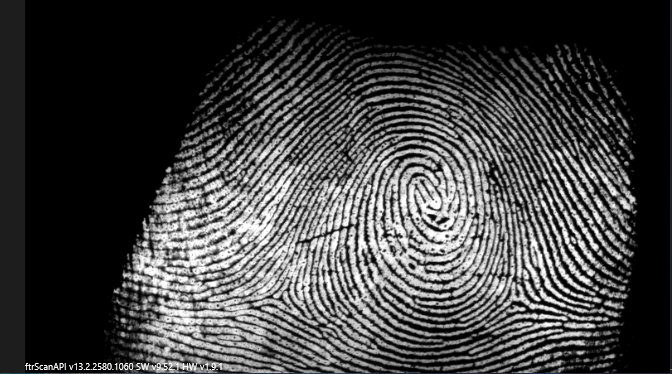deltas: (491, 270, 547, 318), (253, 267, 308, 315)
nucleo: (400, 166, 447, 222)
